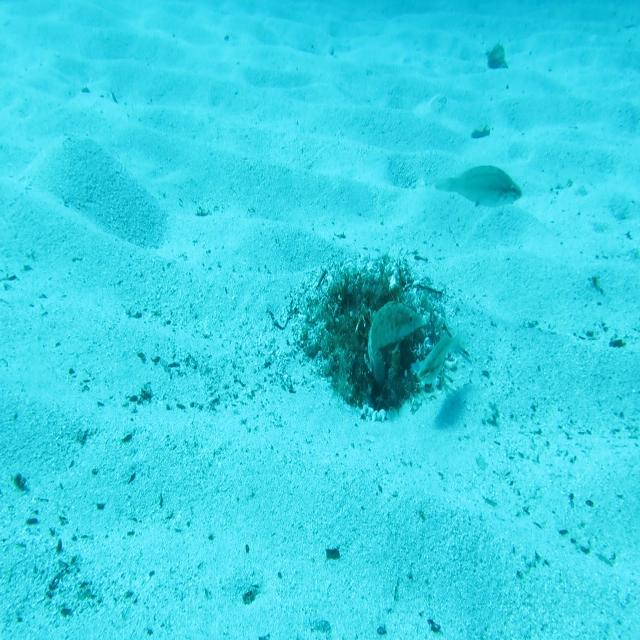DAN_CIRC: (367, 299, 424, 387)
core_nest: (347, 284, 392, 312)
female: (432, 165, 524, 209), (417, 324, 468, 386)
nest: (290, 244, 460, 430)
vegetation: (484, 43, 510, 73), (322, 543, 343, 564), (242, 586, 262, 606), (470, 124, 490, 140)
